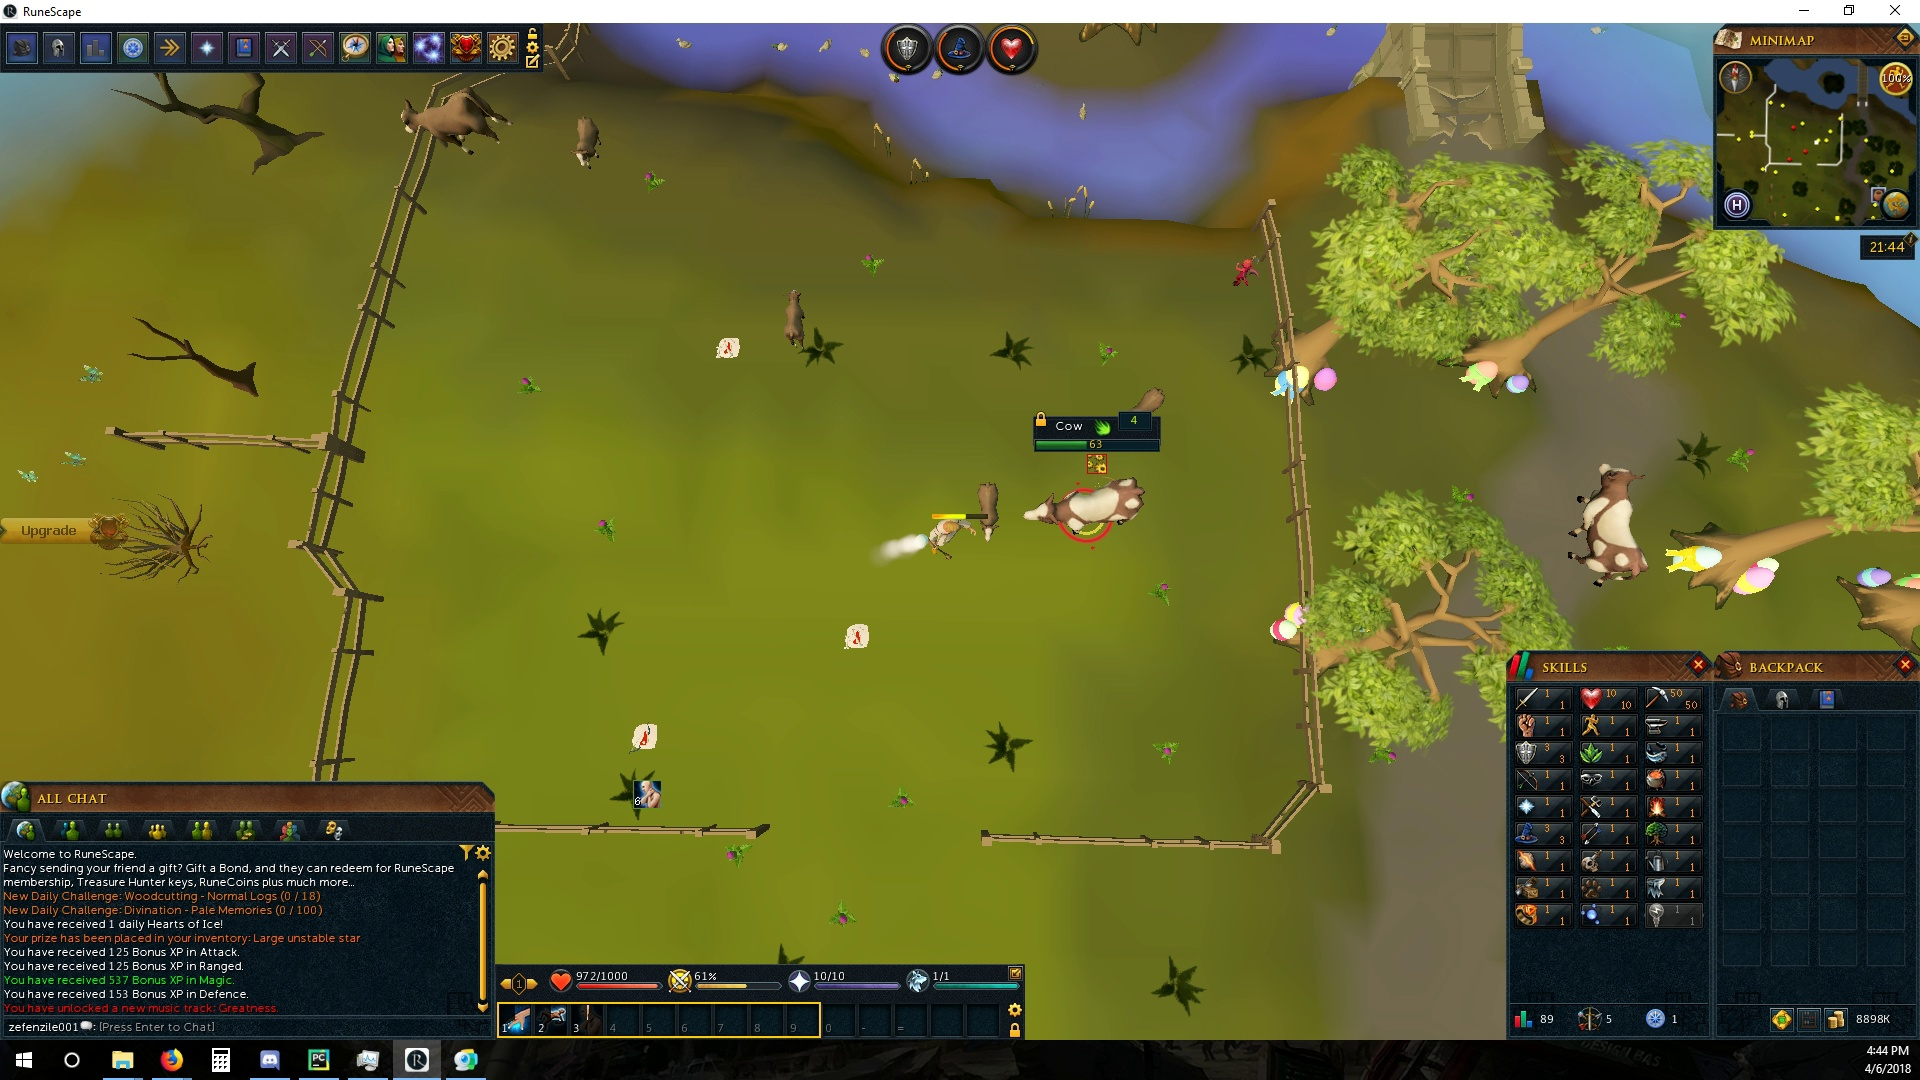calf: (571, 113, 605, 171), (975, 480, 1002, 545), (1127, 384, 1175, 418), (781, 287, 806, 349)
cow: (1567, 460, 1652, 591), (394, 87, 513, 158), (1018, 475, 1145, 538)
cow_drop: (839, 622, 874, 654), (629, 723, 665, 752), (713, 336, 744, 361)
